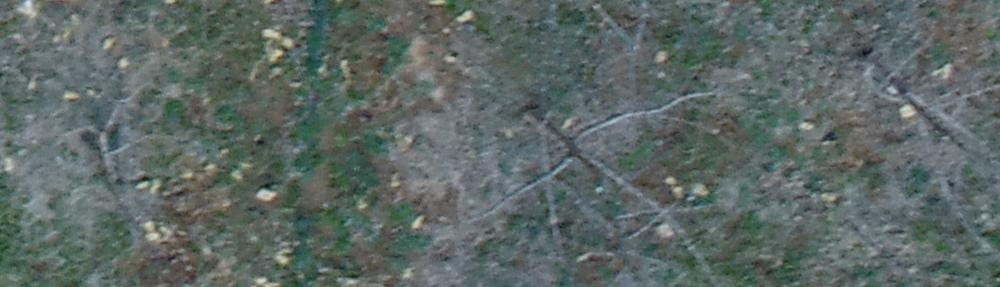apple: (444, 57, 746, 265)
